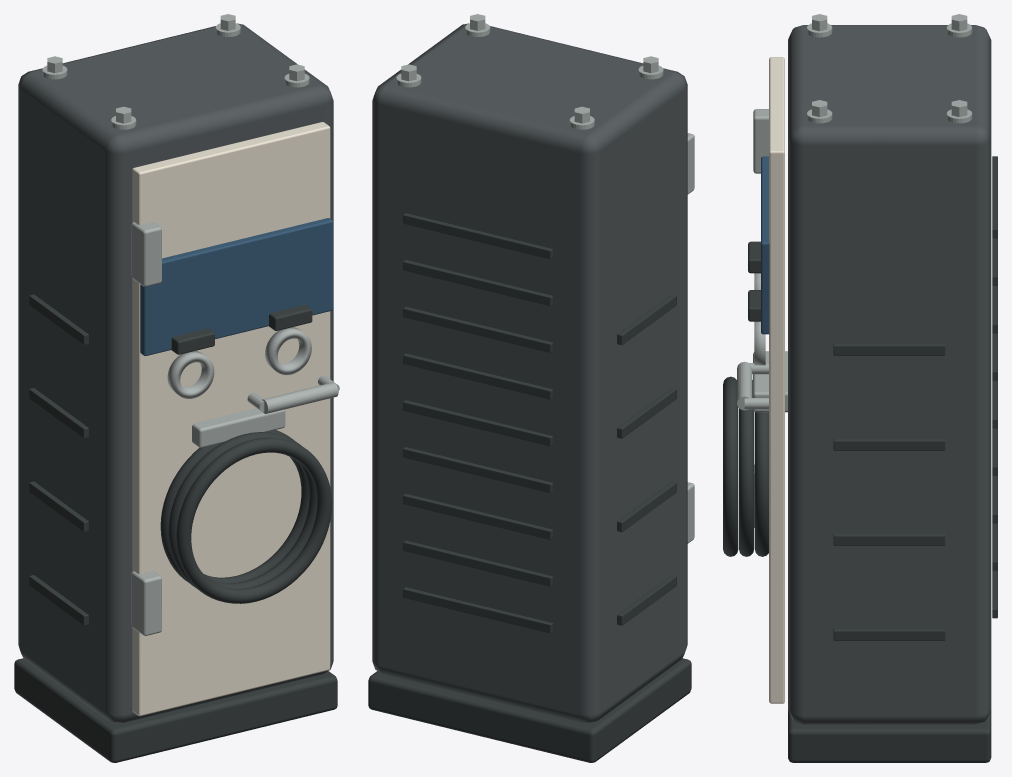
Rendered from canal-boats-and-lock-operations-canal-boats-and-lock-o-ebc1d663__31651.glb.
3 renders of one model, left to right at view 1: azimuth 30°, elevation 25°; view 2: azimuth 150°, elevation 25°; view 3: azimuth 270°, elevation 25°, orthographic.
Parts seen in each view (by area): view 1: canal-boats-and-lock-operations-shore-service-pedestal; view 2: canal-boats-and-lock-operations-shore-service-pedestal; view 3: canal-boats-and-lock-operations-shore-service-pedestal.
Part boxes in pixels (x1=…): canal-boats-and-lock-operations-shore-service-pedestal: x1=14, y1=14, x2=339, y2=762; canal-boats-and-lock-operations-shore-service-pedestal: x1=368, y1=14, x2=694, y2=762; canal-boats-and-lock-operations-shore-service-pedestal: x1=723, y1=14, x2=997, y2=762.
Bounding box in the file's own units: 0.442 × 1.12 × 0.4325.
